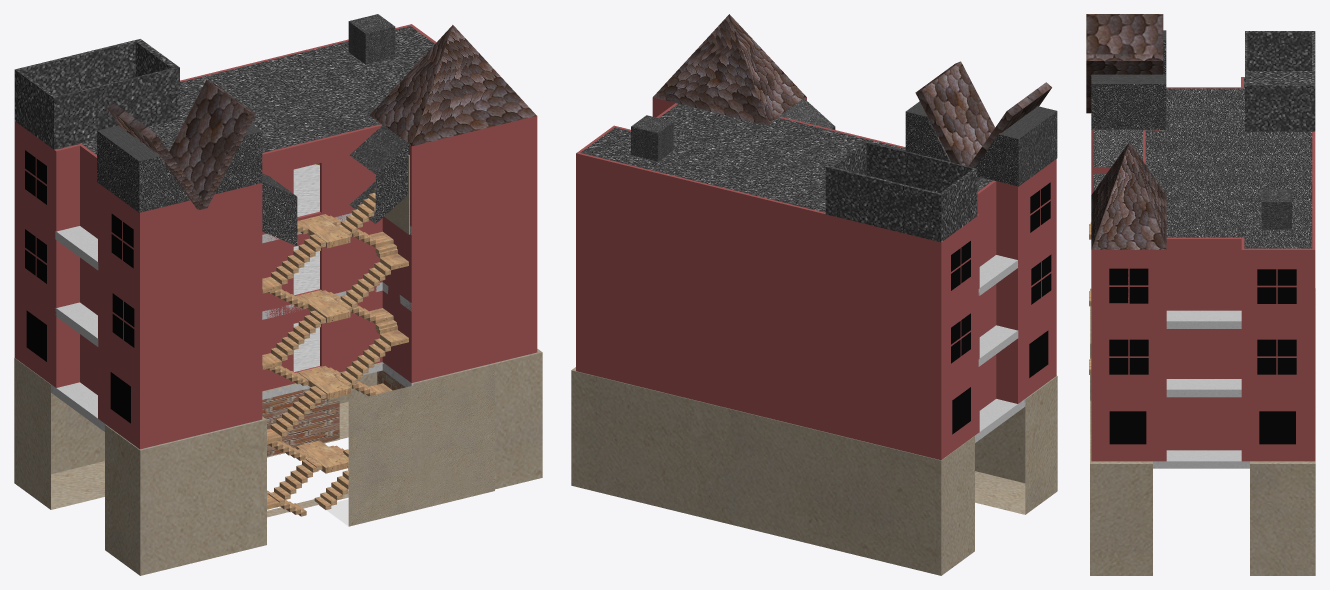
The picture shows the model from 3 angles, left to right: view 1: azimuth 30°, elevation 25°; view 2: azimuth 150°, elevation 25°; view 3: azimuth 270°, elevation 25°; orthographic projection. The views are drawn at different scales.
Visible parts, largest first — view 1: exterior wall top, first floor wall, bottom floor, Base floor 4, Stairs, 1st Walls, A_BRIDGE, Object_166; view 2: exterior wall top, bottom floor, first floor wall, Base floor 4, A_BRIDGE, 1st Walls; view 3: exterior wall top, Base floor 4, first floor wall, bottom floor, 1st Walls, A_BRIDGE.
Boxes of the visible parts, x1,y1,x2,y2 form: exterior wall top: [14, 24, 537, 449]; first floor wall: [14, 14, 536, 526]; bottom floor: [14, 349, 542, 575]; Base floor 4: [15, 26, 536, 449]; Stairs: [262, 188, 408, 516]; 1st Walls: [25, 150, 350, 473]; A_BRIDGE: [107, 80, 255, 209]; Object_166: [262, 388, 339, 457]; exterior wall top: [576, 97, 1056, 459]; bottom floor: [571, 367, 1057, 575]; first floor wall: [631, 14, 1057, 242]; Base floor 4: [577, 103, 1056, 460]; A_BRIDGE: [915, 61, 1051, 167]; 1st Walls: [951, 182, 1051, 434]; exterior wall top: [1091, 77, 1315, 461]; Base floor 4: [1091, 78, 1312, 468]; first floor wall: [1091, 30, 1315, 249]; bottom floor: [1090, 288, 1315, 575]; 1st Walls: [1089, 224, 1296, 444]; A_BRIDGE: [1086, 14, 1163, 113].
Size of the model in its own units: 632 by 689 by 349.
22 materials, 19 textured.
